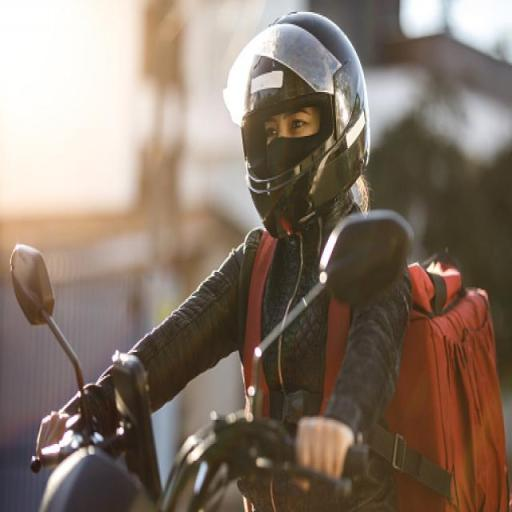Helmet: (224, 12, 369, 237)
Motor: (12, 246, 367, 511)
